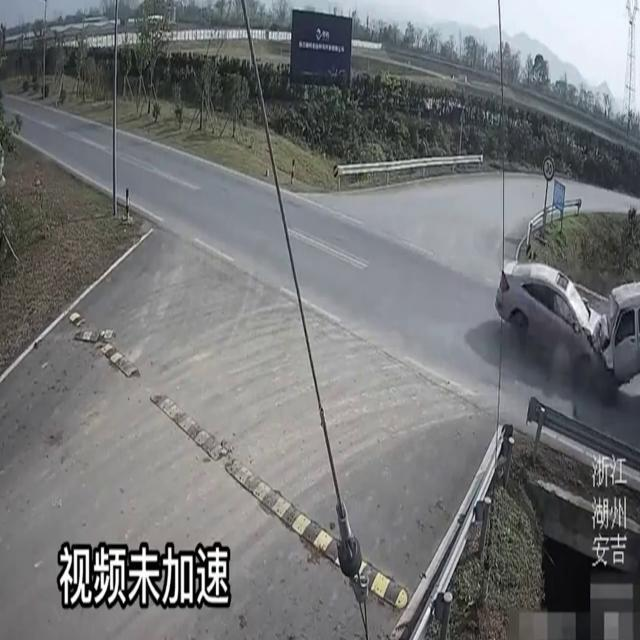multiple_accident: (453, 239, 640, 409)
